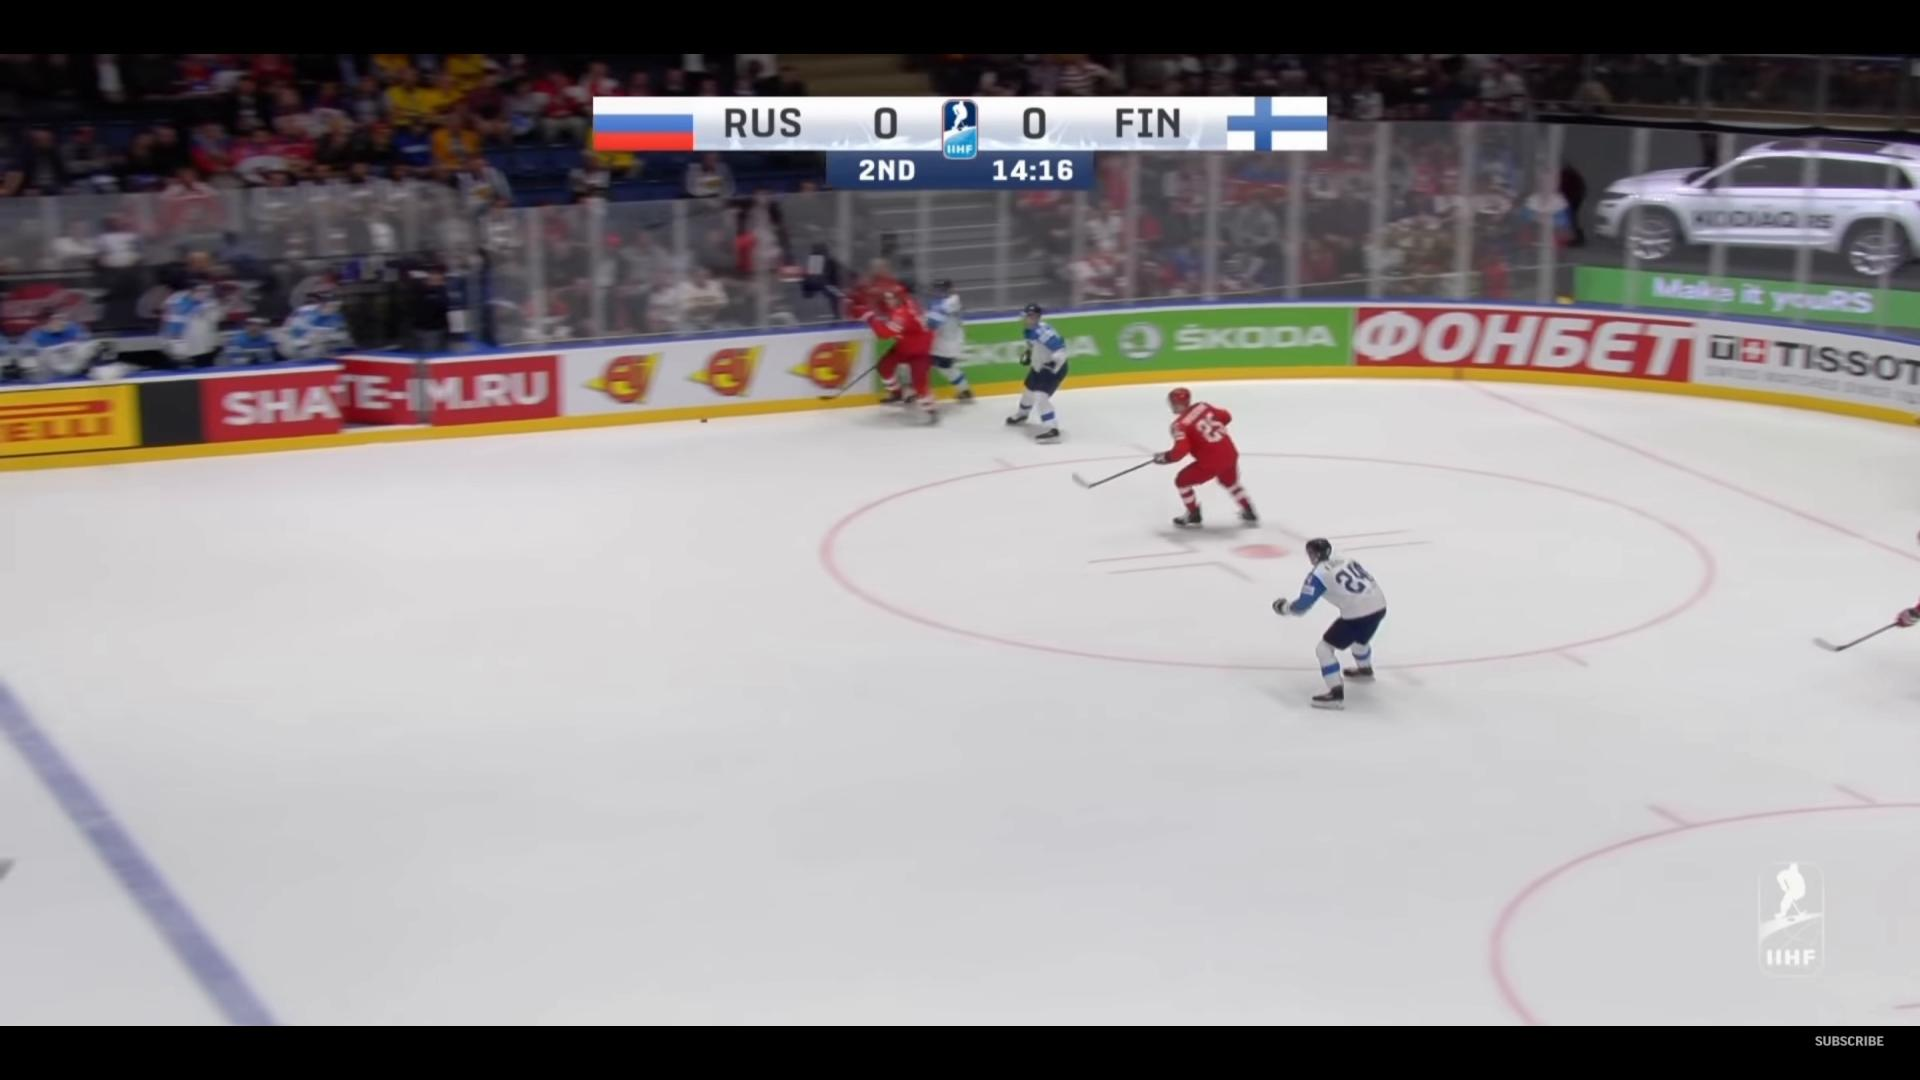puck: (699, 417, 707, 422)
